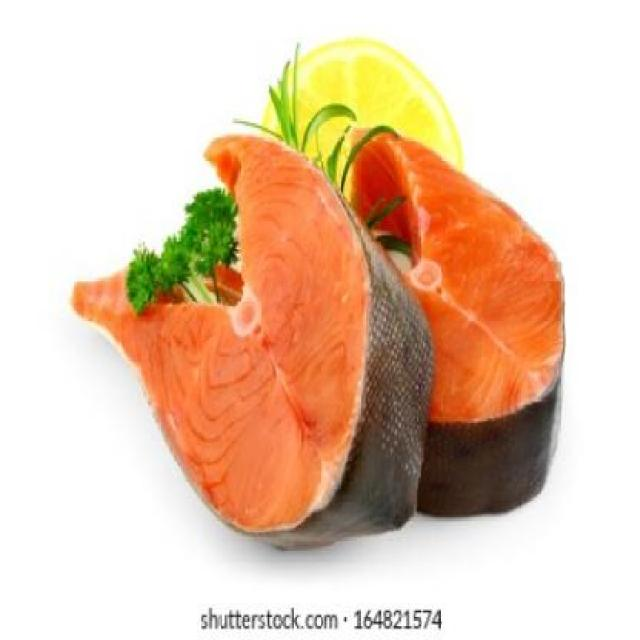salmon: (74, 119, 448, 553), (263, 100, 592, 516)
